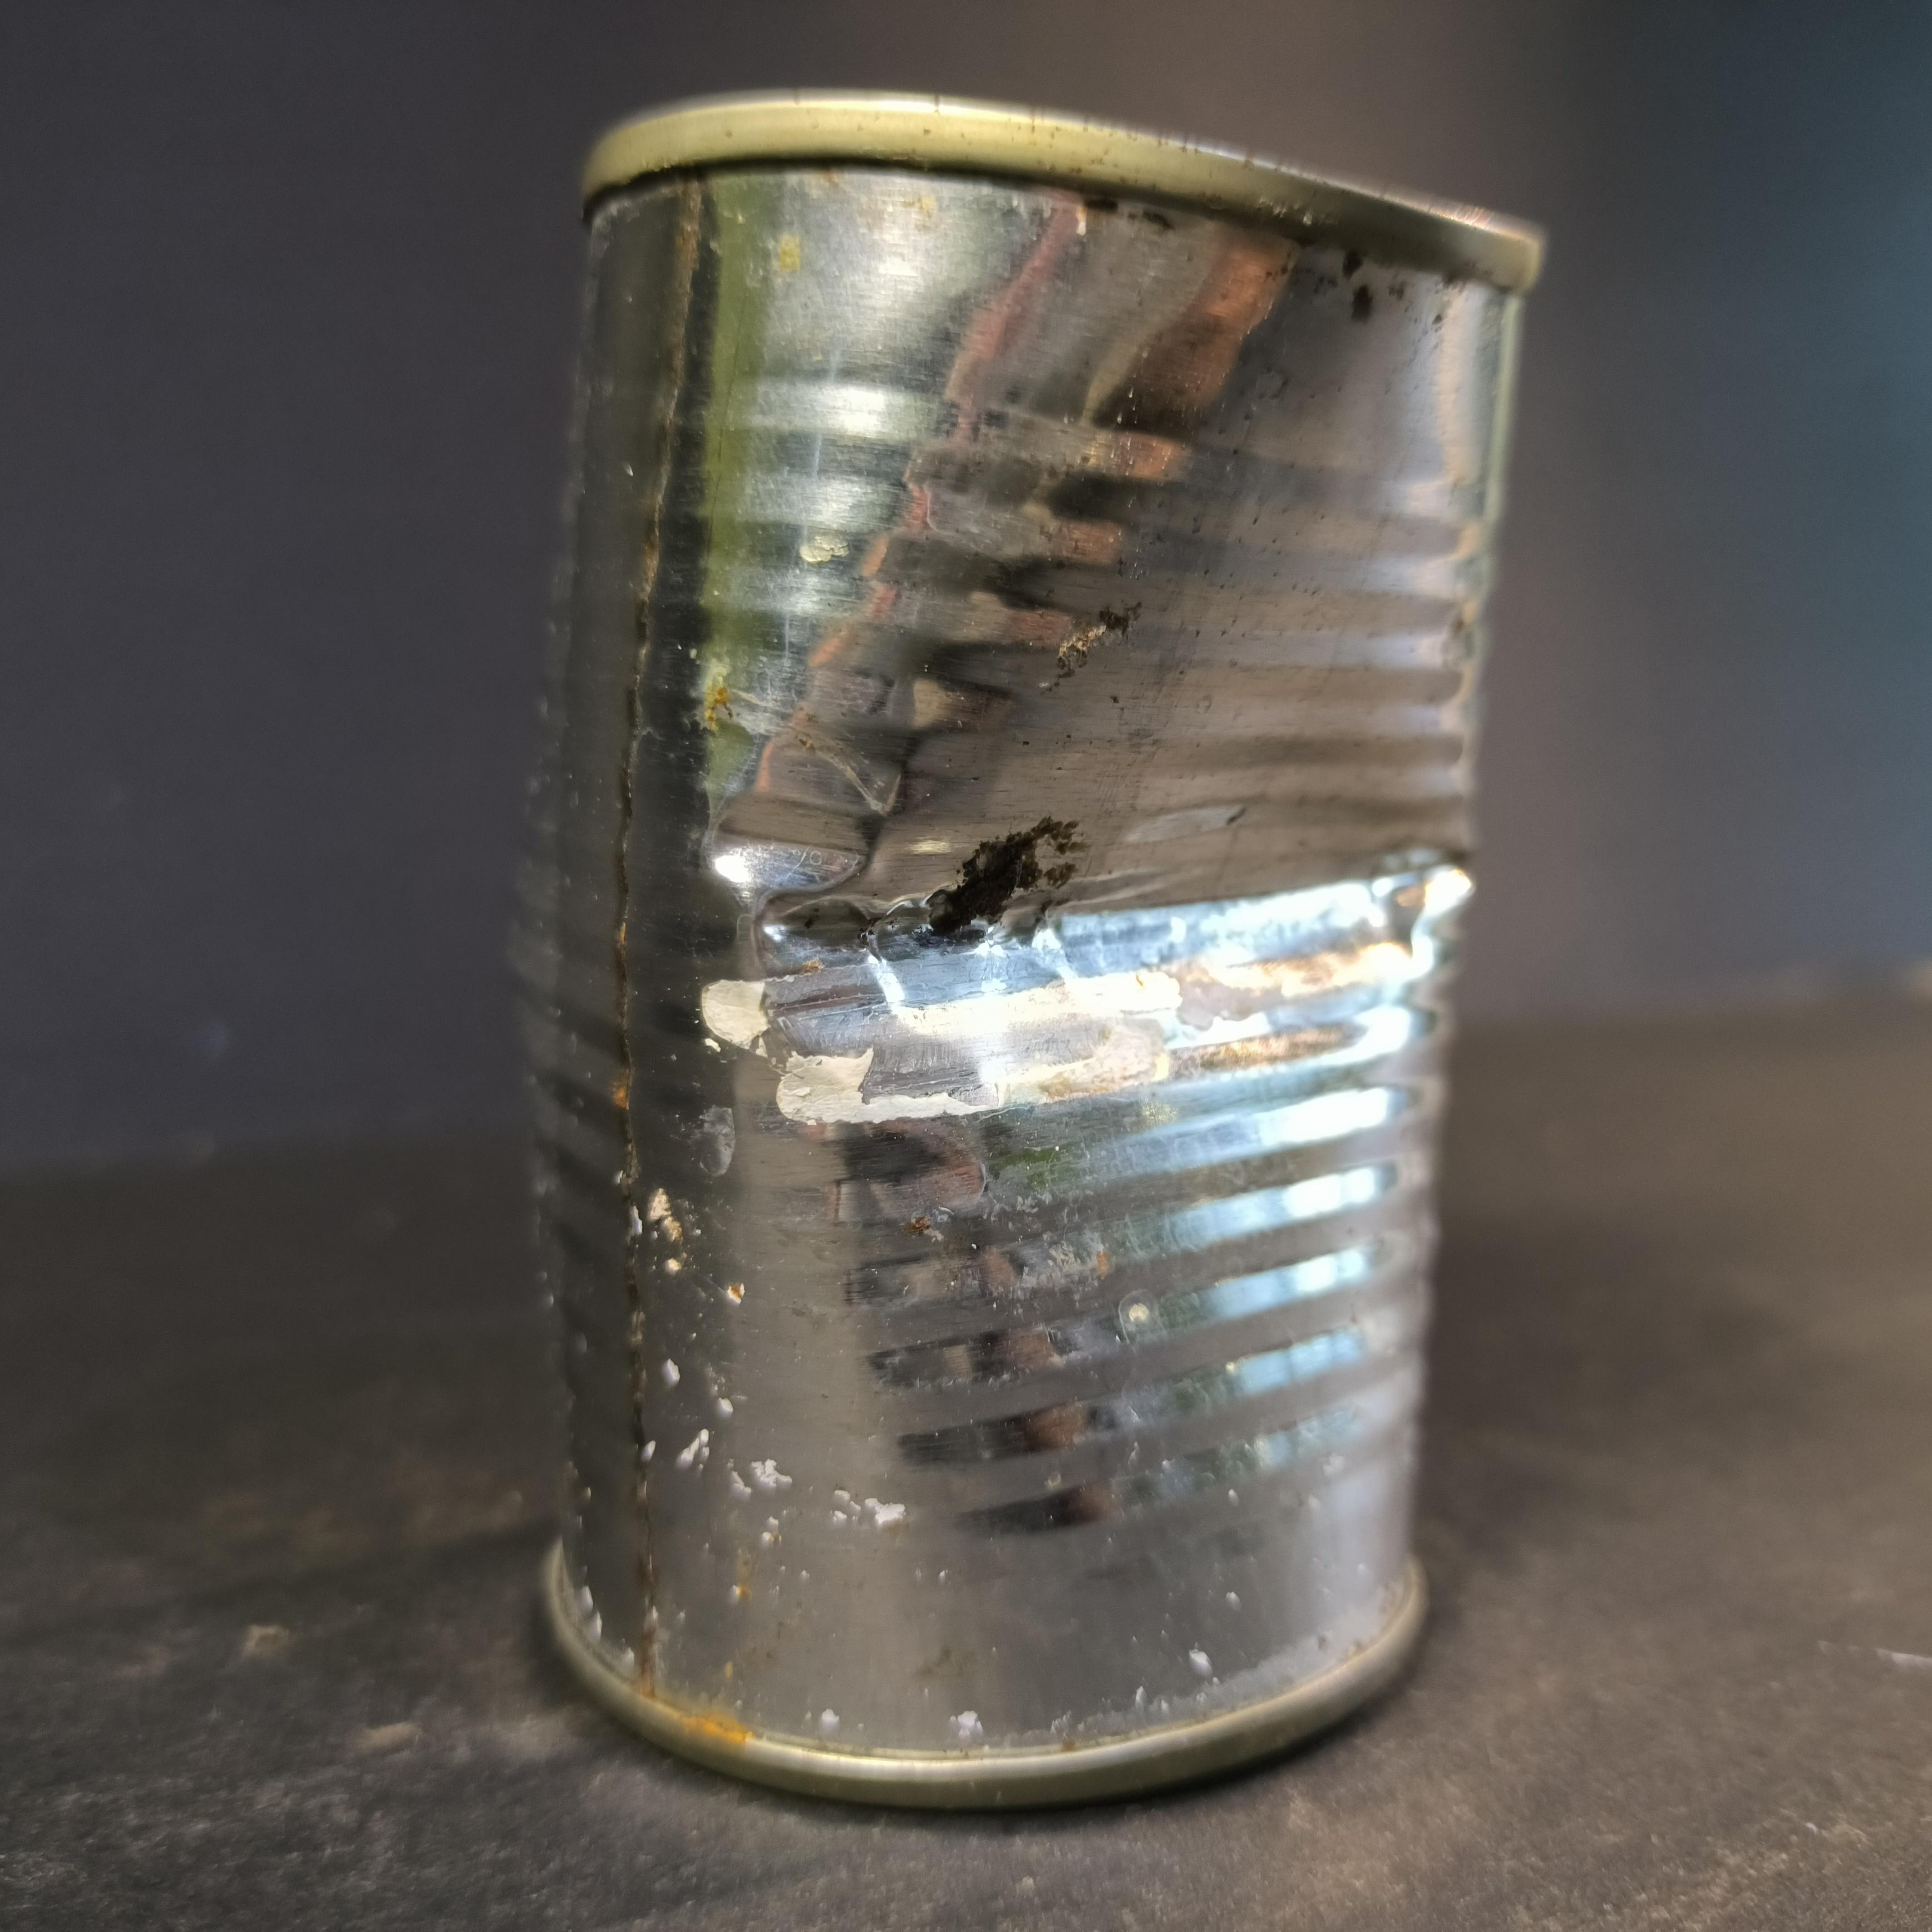Dented: (471, 48, 1573, 1845)
